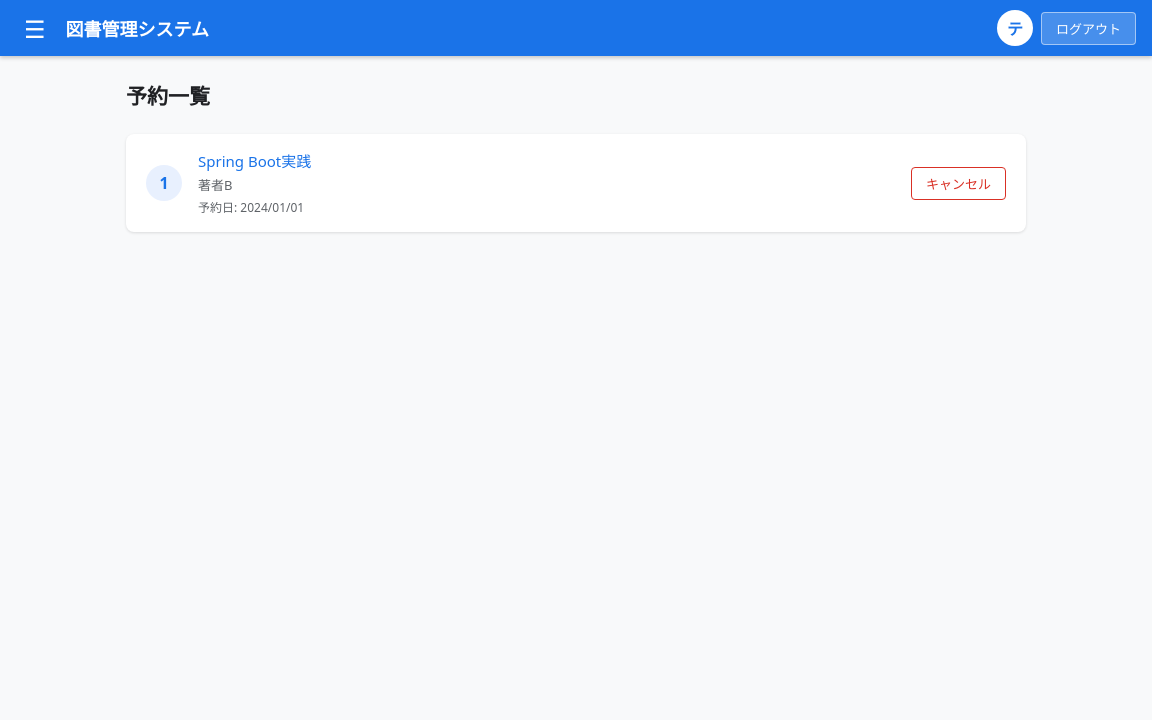
it: ReservationListPage › shows confirm dialog when cancel button clicked
Expected: the link "Spring Boot実践" is shown, [198,151,311,171]
Step 1. Click the button "キャンセル" → (958, 183), box [911,166,1006,200]
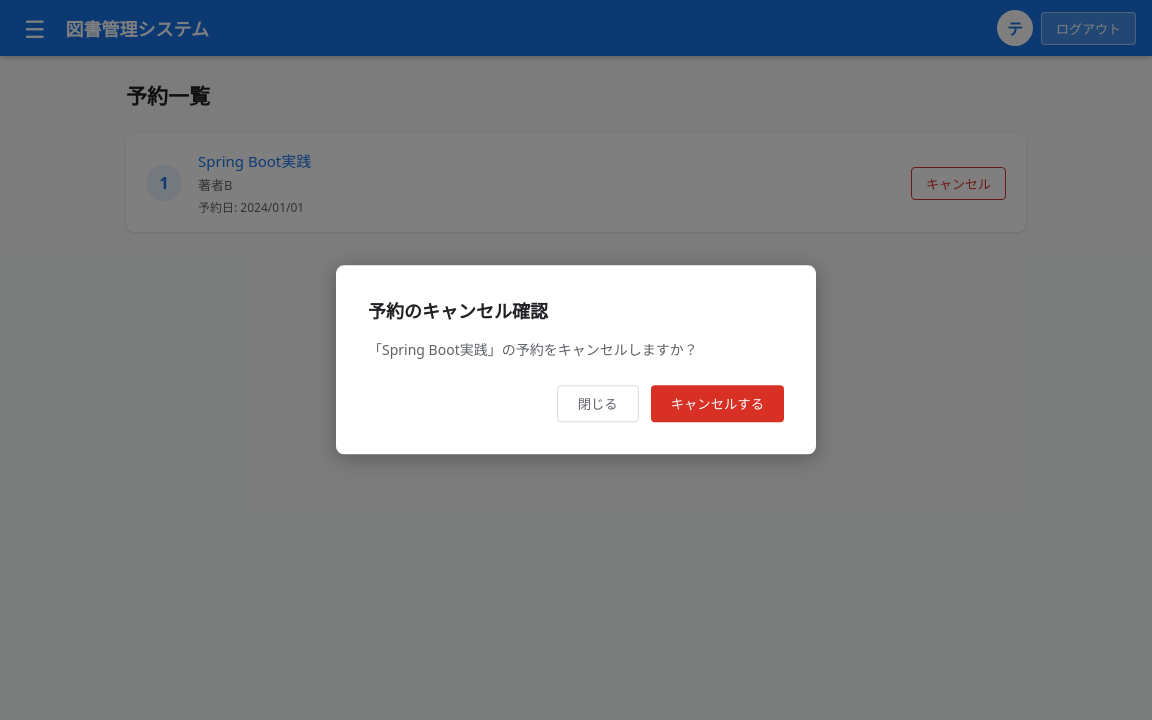
Now the heading "予約のキャンセル確認" is shown, box [368,299,548,323]
